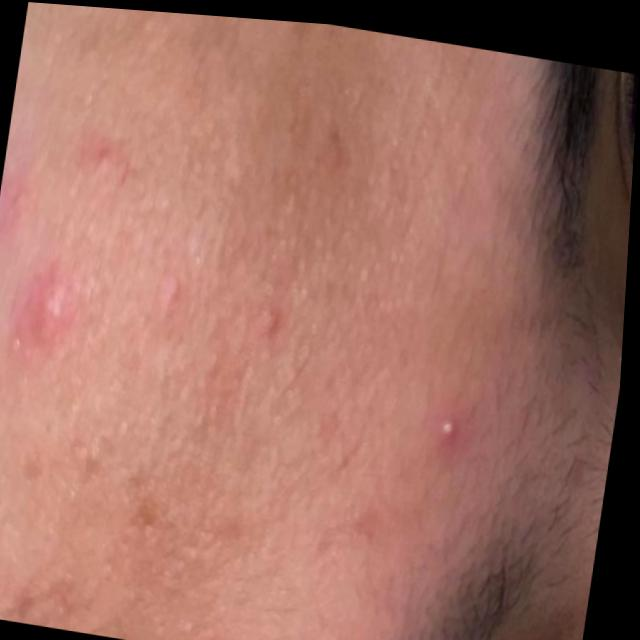papule: (0, 66, 169, 404)
pustule: (425, 397, 466, 446), (198, 626, 236, 640)
